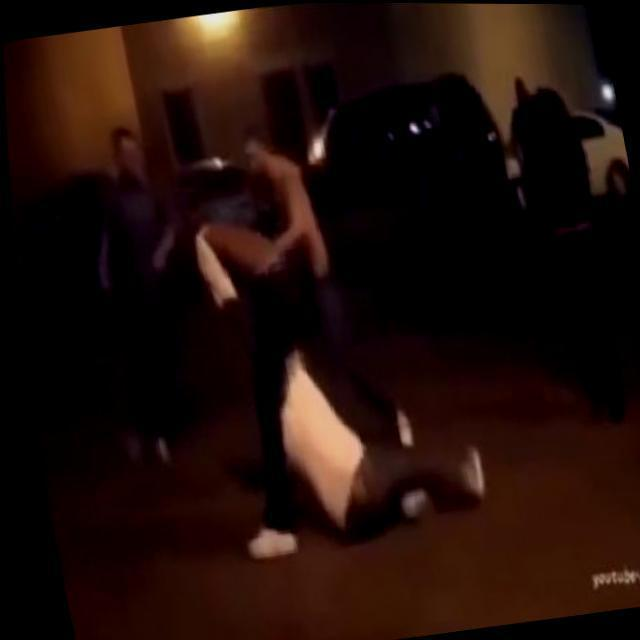fight: (168, 169, 492, 566)
